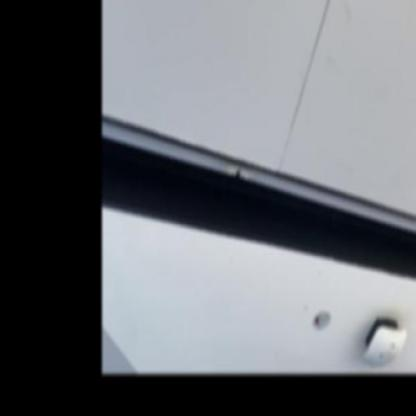light_off: (102, 90, 415, 273)
